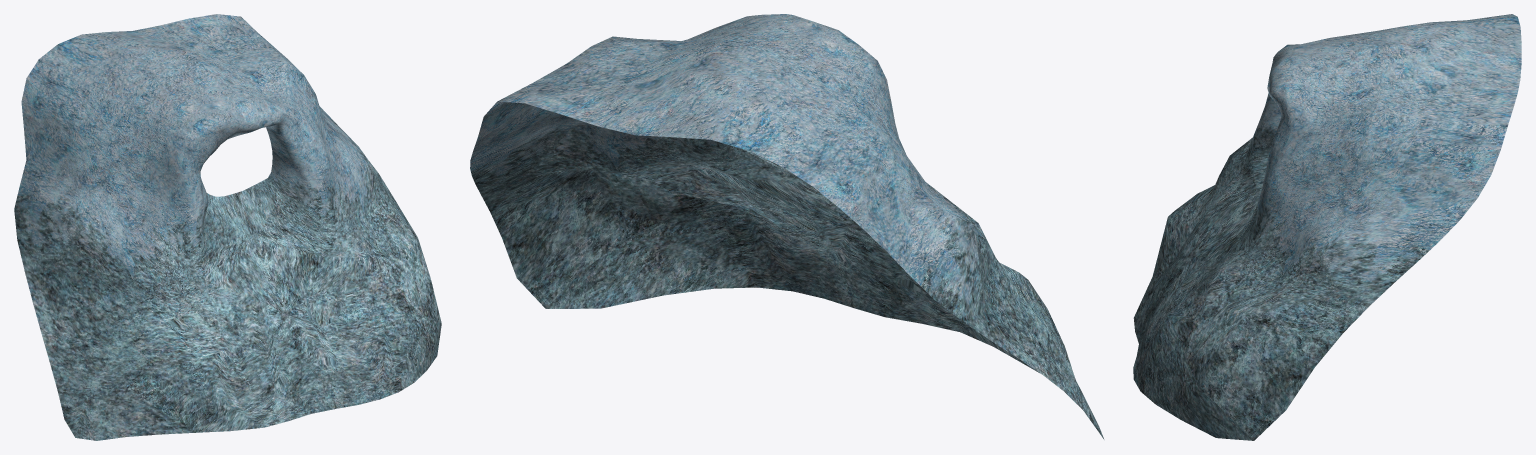
The model's file is thm_all_cave_s03_ice_r0_mesh_l1.fbx.
The picture shows the model from 3 angles, left to right: view 1: azimuth 30°, elevation 25°; view 2: azimuth 150°, elevation 25°; view 3: azimuth 270°, elevation 25°; orthographic projection. The views are drawn at different scales.
Visible parts, largest first — view 1: mesh_node; view 2: mesh_node; view 3: mesh_node.
Part boxes in pixels (left/top/right/bottom): mesh_node: left=14, top=14, right=441, bottom=440; mesh_node: left=470, top=14, right=1104, bottom=439; mesh_node: left=1133, top=14, right=1521, bottom=440.
Size of the model in its own units: 48.97 by 34.18 by 39.36.
